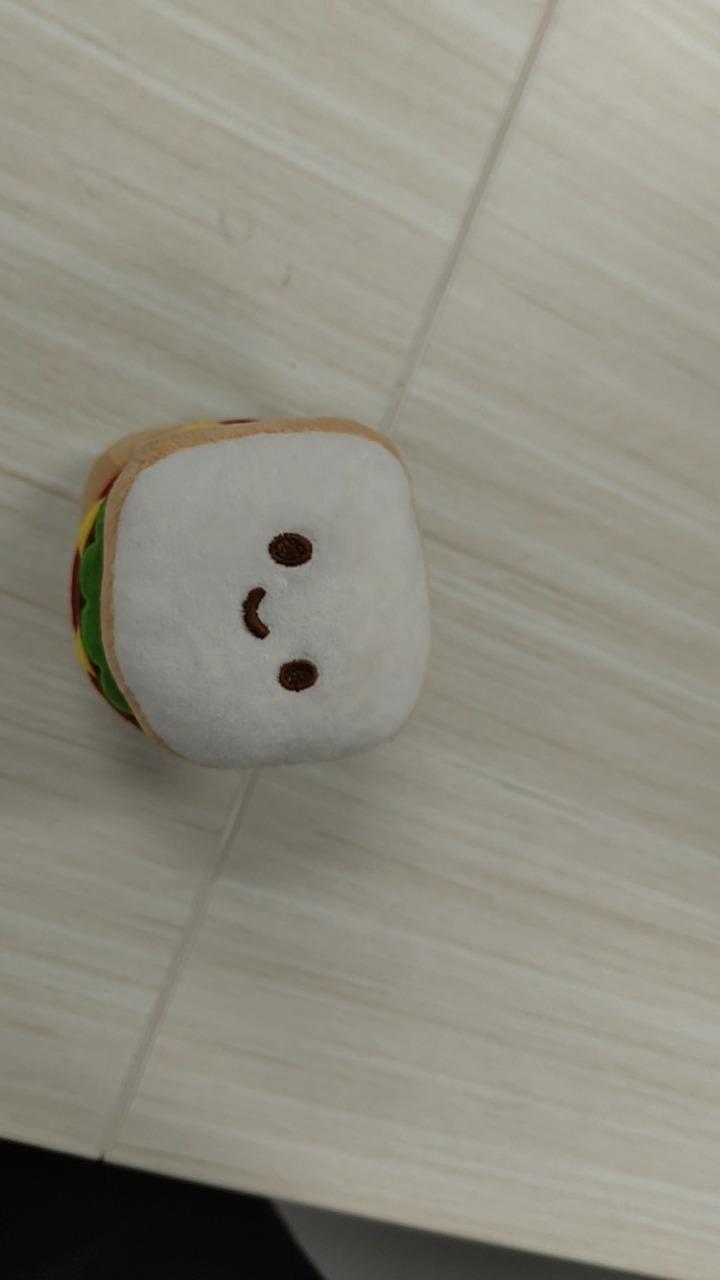objects: (68, 414, 432, 769)
